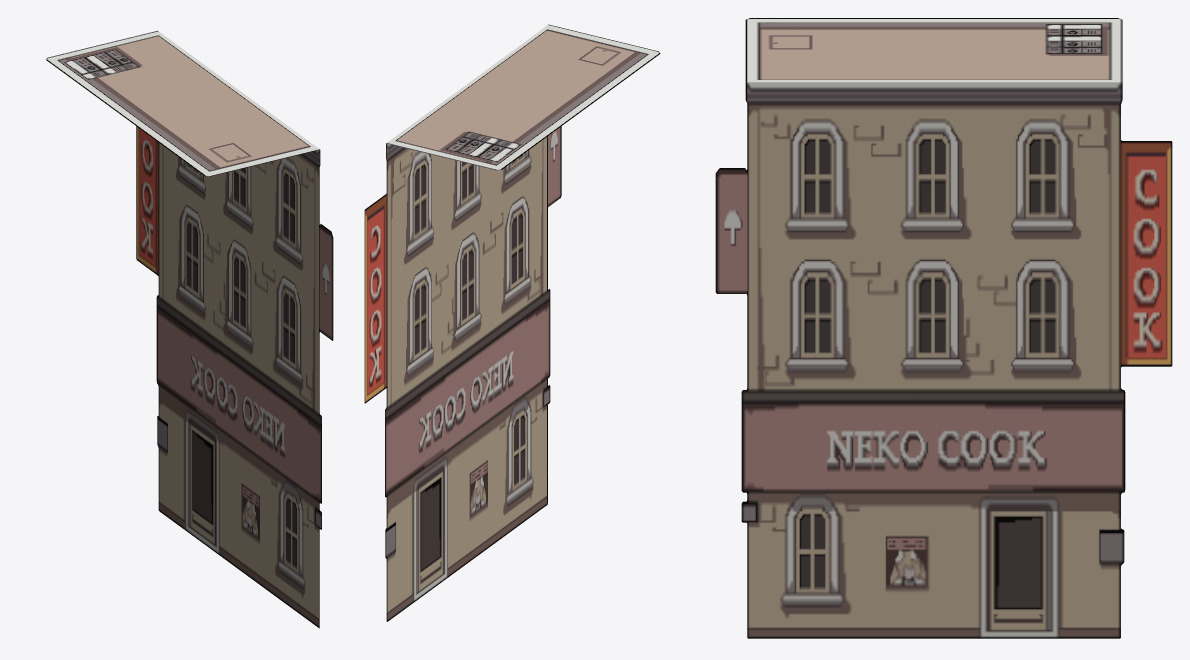
File: kabe1.fbx
3 renders of one model, left to right at view 1: azimuth 30°, elevation 25°; view 2: azimuth 150°, elevation 25°; view 3: azimuth 270°, elevation 25°, orthographic. The views are drawn at different scales.
Visible parts, largest first — view 1: kabe1; view 2: kabe1; view 3: kabe1.
Part boxes in pixels (<box>): kabe1: <box>46,30,333,628</box>; kabe1: <box>364,24,660,621</box>; kabe1: <box>715,18,1172,638</box>.
Size of the model in its own units: 108 by 414 by 309.
Materials: 1 (1 with a texture image).
